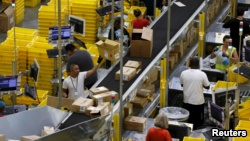noepi: (177, 57, 213, 125), (63, 58, 103, 101), (62, 42, 99, 86), (211, 33, 238, 71), (105, 15, 131, 47), (127, 9, 154, 33)
